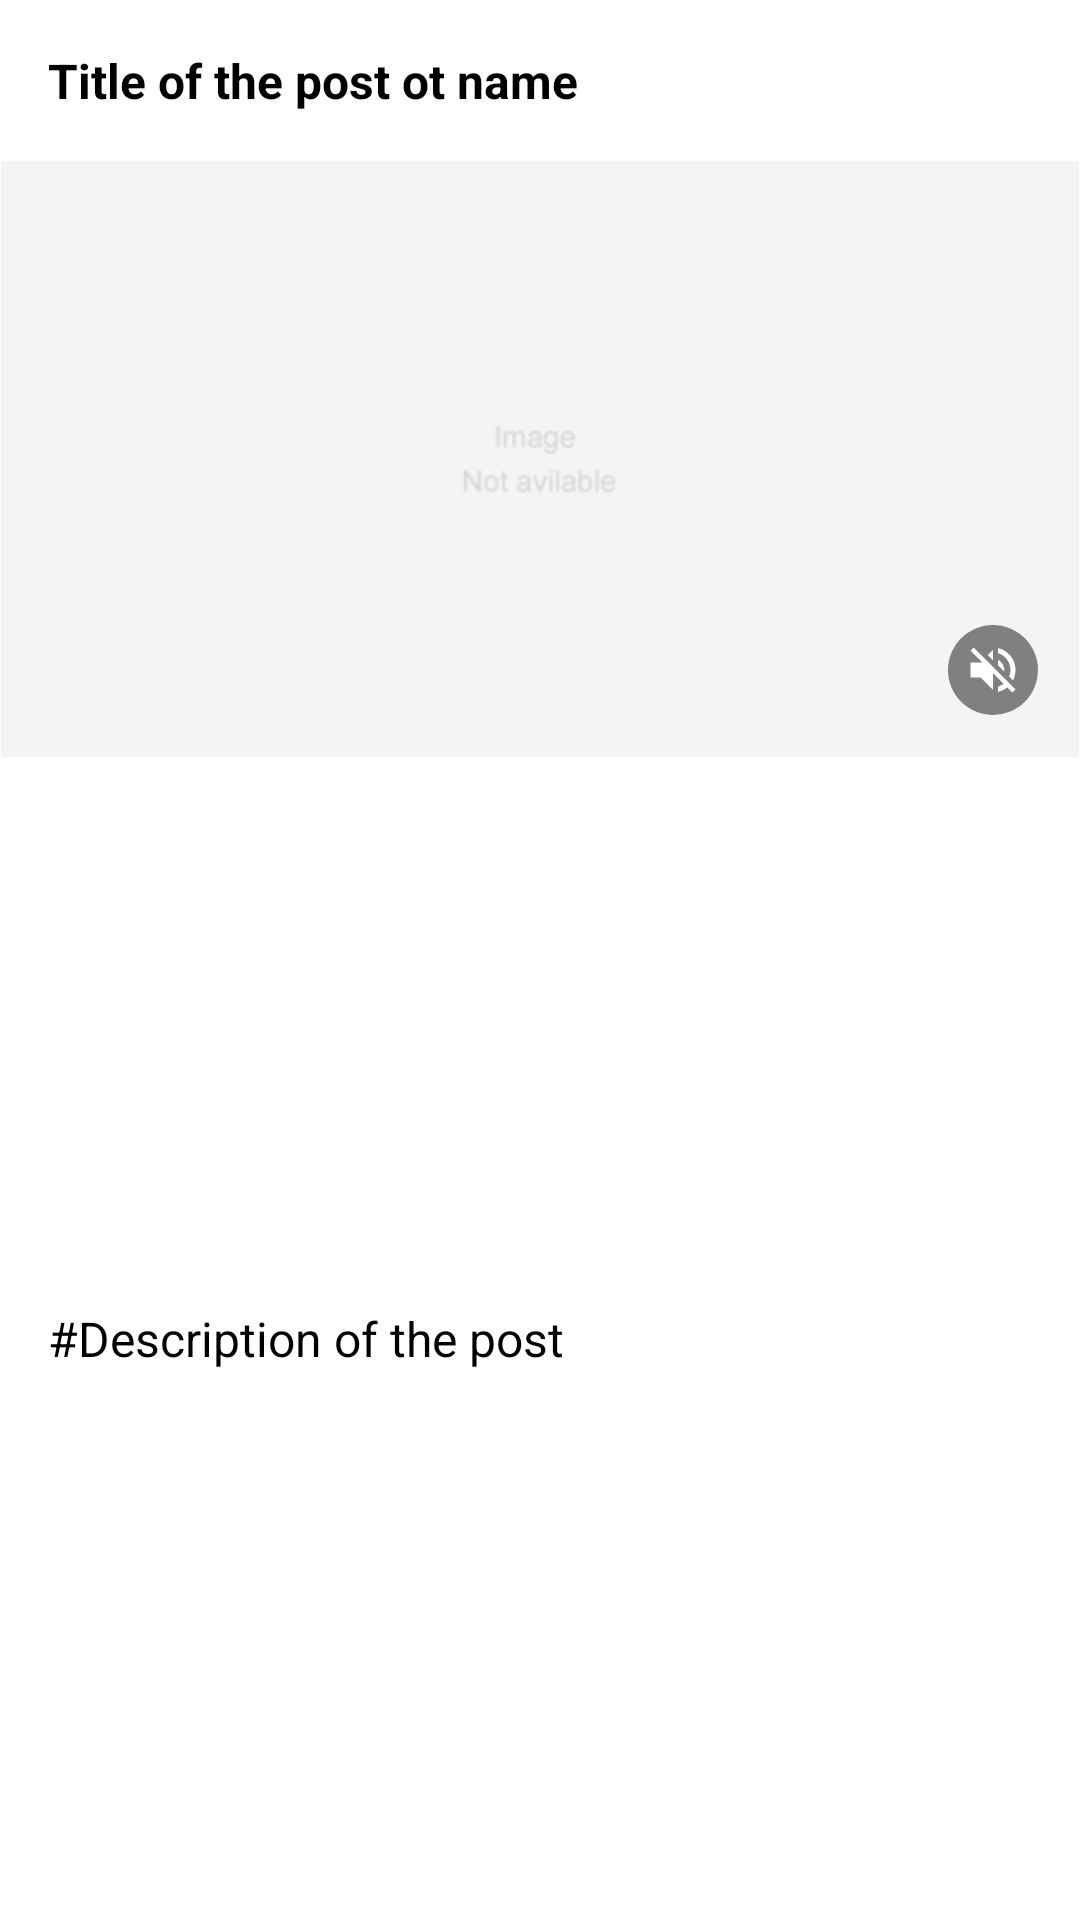

Screen size 1080px x 1920px. Icon name, then its center in pixels as (x=x, y=y):
Volume image view: (x=993, y=670)
